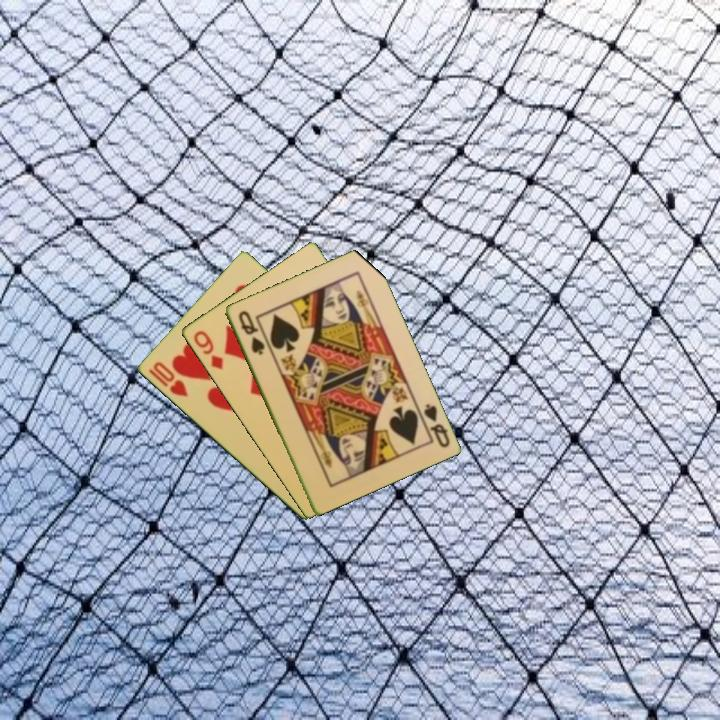10h: (149, 358, 191, 400)
9d: (190, 327, 226, 372)
Qs: (234, 307, 267, 358), (420, 400, 452, 450)
